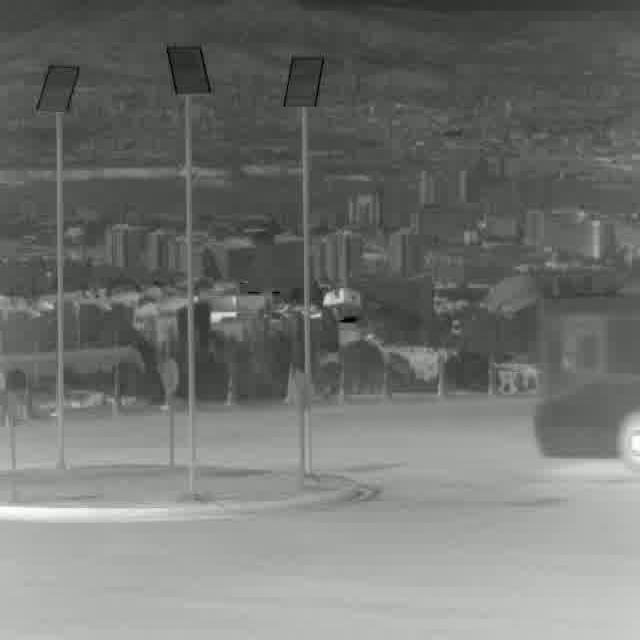Bus: (538, 294, 640, 466)
